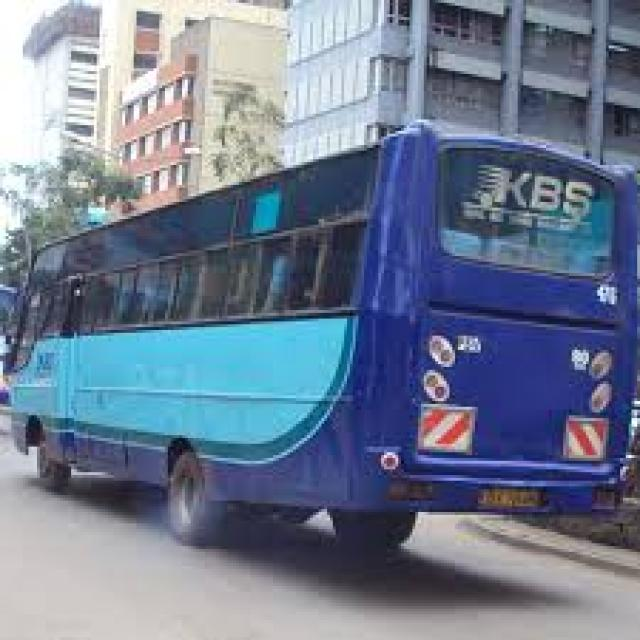bus: (1, 130, 640, 578)
